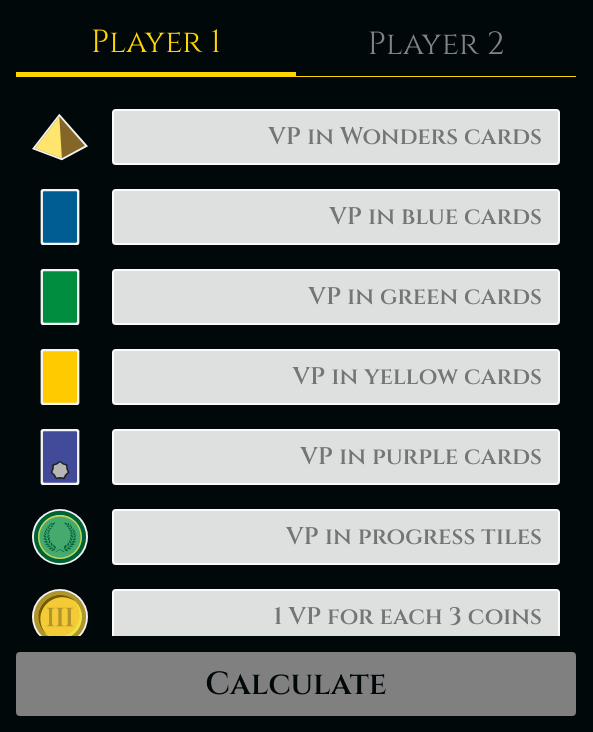
Test: Scorepad - Replay › resets inputs when Replay is clicked
Type "10" into the number field with placeholder "VP in Wonders cards" at {"x": 336, "y": 137}, box 112,109 -> 560,165
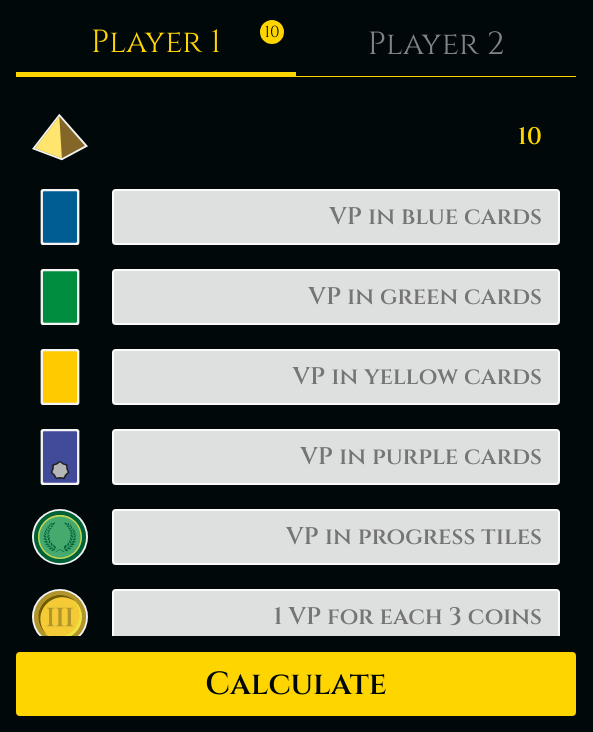
Click the button "Calculate" at {"x": 296, "y": 684}, box 16,652 -> 576,716
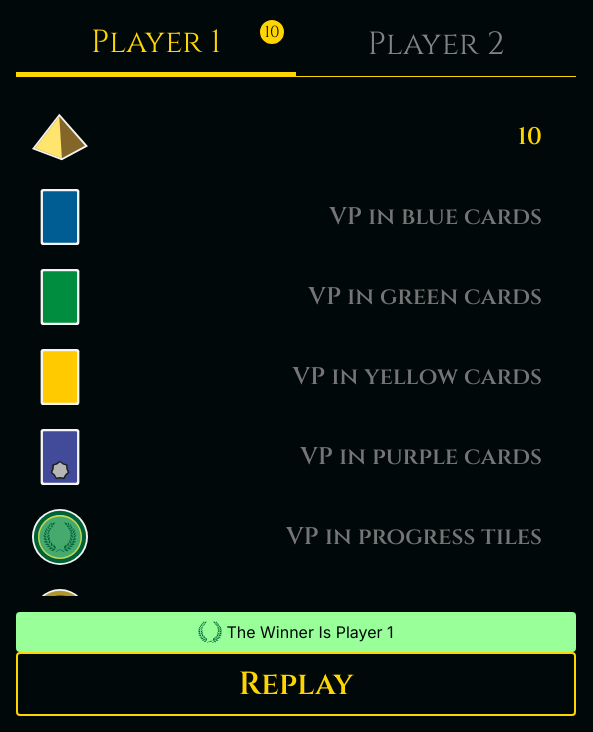
Click the button "Replay" at {"x": 296, "y": 684}, box 16,652 -> 576,716
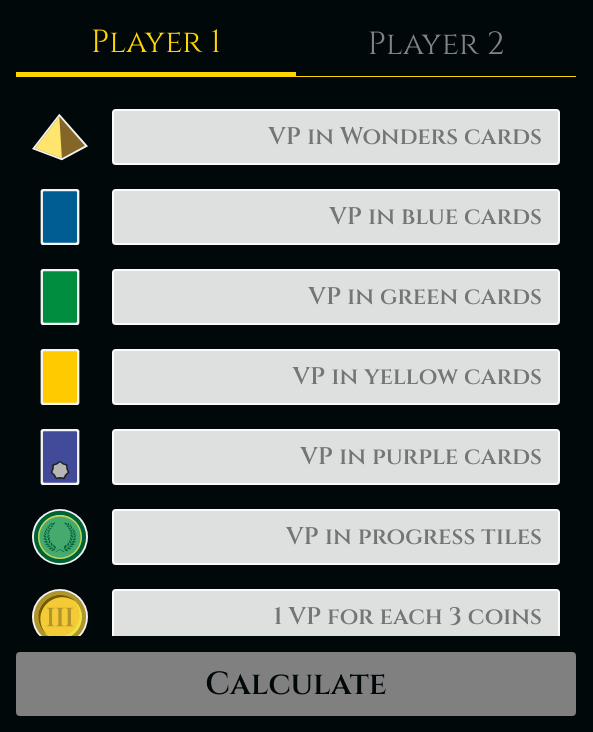
Check: the number field with placeholder "VP in Wonders cards" does not hold "10", box 112,109 -> 560,165
Check: the number field with placeholder "VP in Wonders cards" is enabled, box 112,109 -> 560,165
